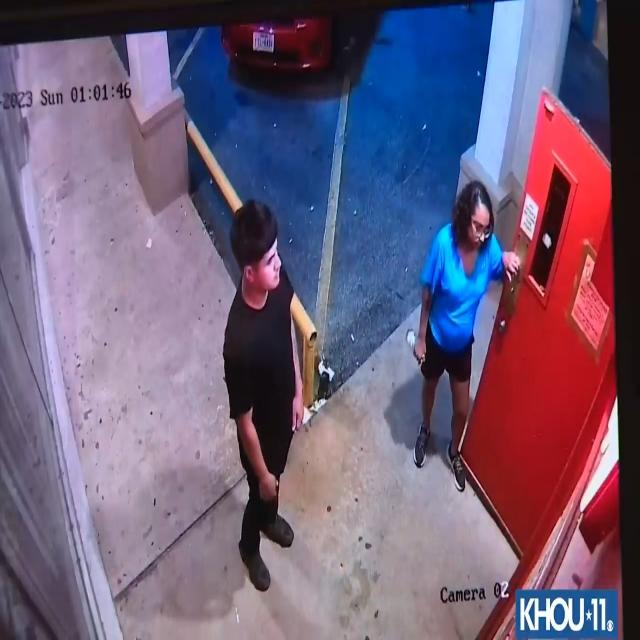Person: (411, 180, 515, 510), (217, 192, 297, 578)
